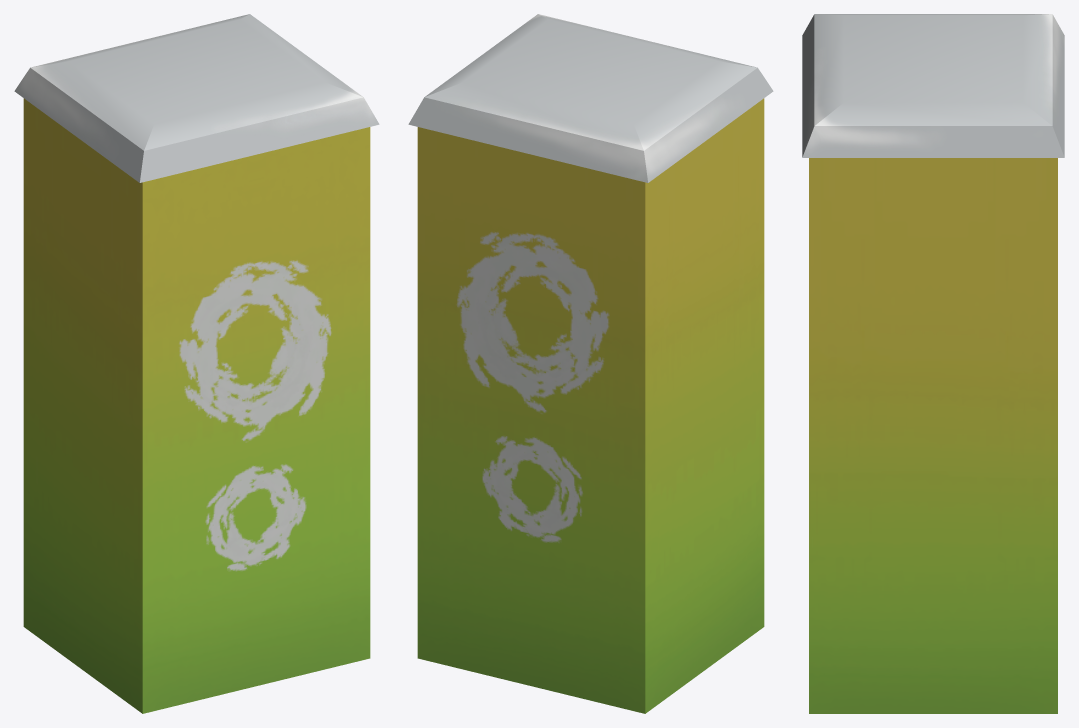
Rendered from Food_Box2B.fbx.
The picture shows the model from 3 angles, left to right: view 1: azimuth 30°, elevation 25°; view 2: azimuth 150°, elevation 25°; view 3: azimuth 270°, elevation 25°; orthographic projection. The views are drawn at different scales.
Parts seen in each view (by area): view 1: pCube5; view 2: pCube5; view 3: pCube5.
Part boxes in pixels (bbox=[...]): pCube5: bbox=[14, 14, 379, 713]; pCube5: bbox=[408, 14, 773, 713]; pCube5: bbox=[802, 14, 1064, 713].
Bounding box in the file's own units: 9.56 × 21.72 × 8.66.
1 material, 1 textured.
